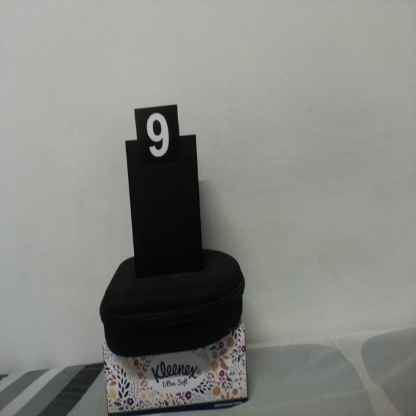id_9: (136, 109, 179, 175)
